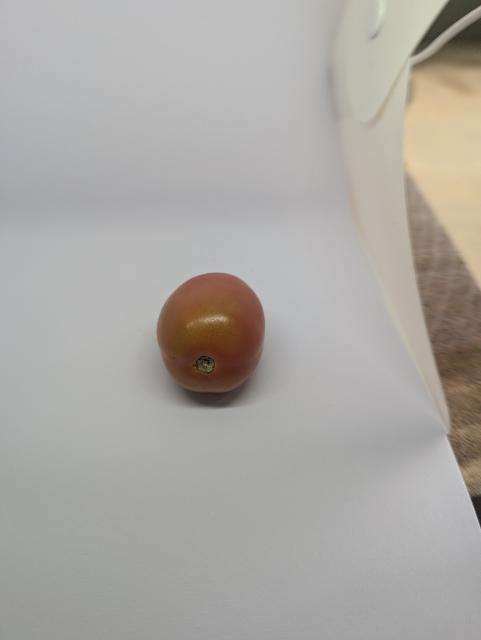turning: (148, 267, 274, 395)
